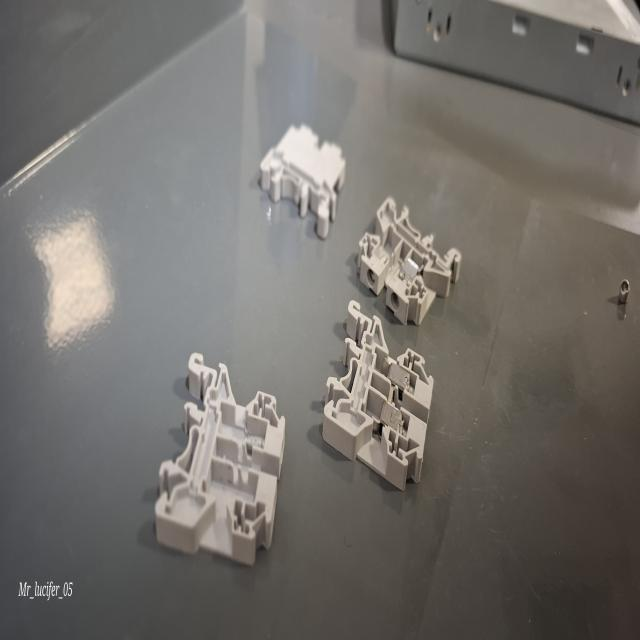Inverted: (256, 118, 342, 236)
Pass: (319, 298, 434, 493)
Reject: (150, 347, 288, 573), (352, 194, 463, 326)
